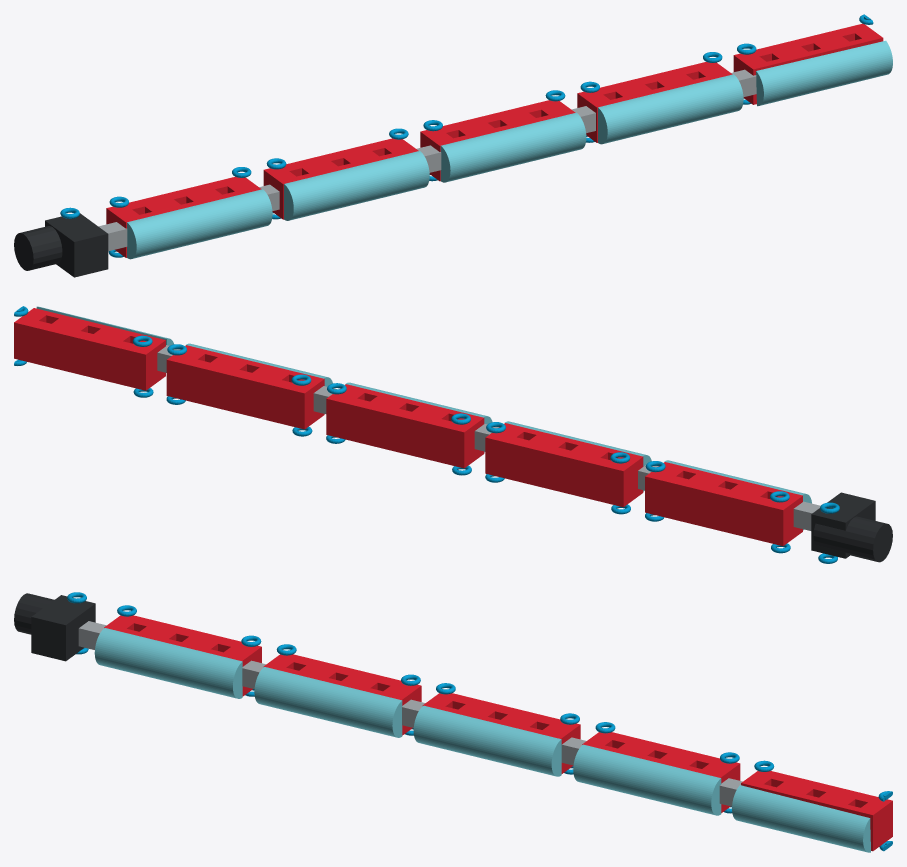
File: tinker.obj
3 views of the same model, one above another, from view 1: azimuth 30°, elevation 25°; view 2: azimuth 150°, elevation 25°; view 3: azimuth 330°, elevation 25° (orthographic).
Visible parts, largest first — view 1: group_0_7720667, group_0_15277357, group_0_2829873, group_0_40919, group_0_10988977; view 2: group_0_15277357, group_0_2829873, group_0_40919, group_0_7720667, group_0_10988977; view 3: group_0_7720667, group_0_15277357, group_0_2829873, group_0_40919, group_0_10988977.
Part boxes in pixels (<box>): group_0_7720667: <box>127,40,892,259</box>; group_0_15277357: <box>106,23,883,257</box>; group_0_2829873: <box>14,213,108,277</box>; group_0_40919: <box>60,14,873,257</box>; group_0_10988977: <box>98,69,756,251</box>; group_0_15277357: <box>14,308,802,545</box>; group_0_2829873: <box>811,492,892,562</box>; group_0_40919: <box>14,306,839,563</box>; group_0_7720667: <box>36,306,811,530</box>; group_0_10988977: <box>157,345,820,530</box>; group_0_7720667: <box>94,628,870,852</box>; group_0_15277357: <box>104,615,892,851</box>; group_0_2829873: <box>14,593,95,661</box>; group_0_40919: <box>67,592,892,851</box>; group_0_10988977: <box>78,621,742,806</box>.
Size of the model in its own units: 998 by 62 by 64.
